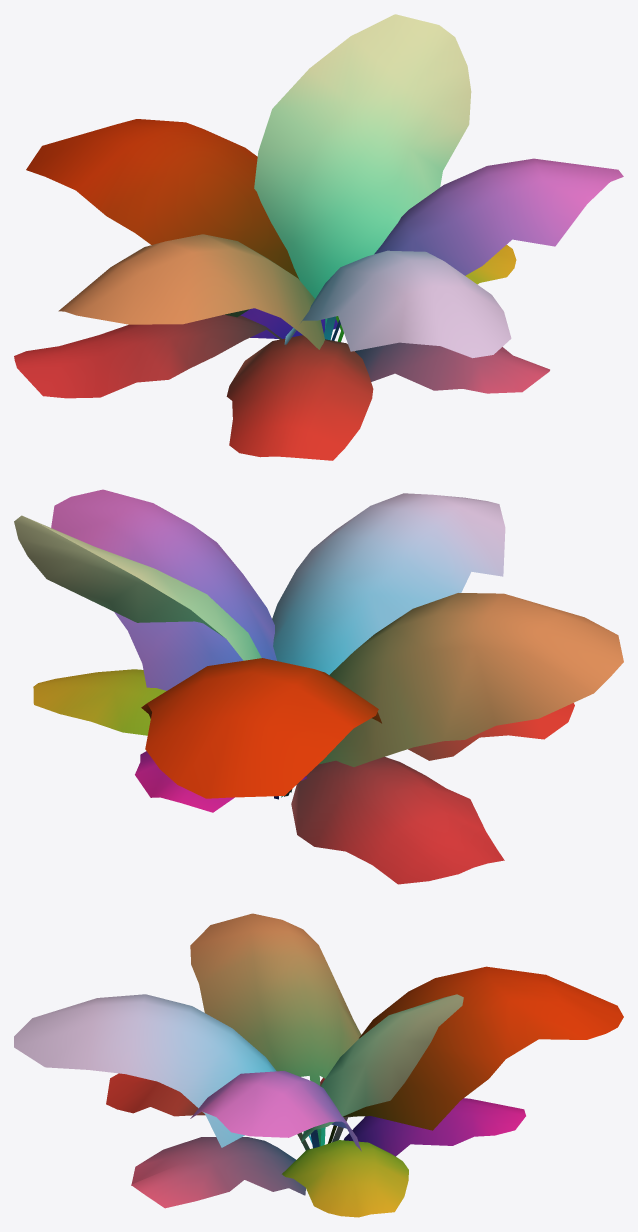
Rendered from Tropical_Palm_rkqjj_Low_rkqjj_VarA_LOD1.fbx.
The picture shows the model from 3 angles, top to bottom: view 1: azimuth 30°, elevation 25°; view 2: azimuth 150°, elevation 25°; view 3: azimuth 270°, elevation 25°; orthographic projection. The views are drawn at different scales.
Visible parts, largest first — view 1: _72e5_VarA_LOD3; view 2: _72e5_VarA_LOD3; view 3: _72e5_VarA_LOD3.
Part boxes in pixels (box(x1,y1,x2,y2)): _72e5_VarA_LOD3: box(14, 14, 623, 460); _72e5_VarA_LOD3: box(14, 489, 623, 884); _72e5_VarA_LOD3: box(14, 913, 623, 1217).
Bounding box in the file's own units: 331 × 163 × 361.
